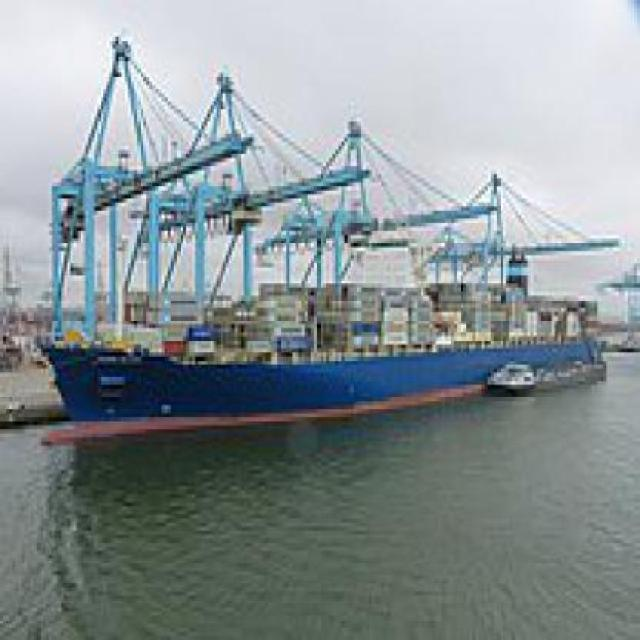container: (34, 220, 620, 447)
